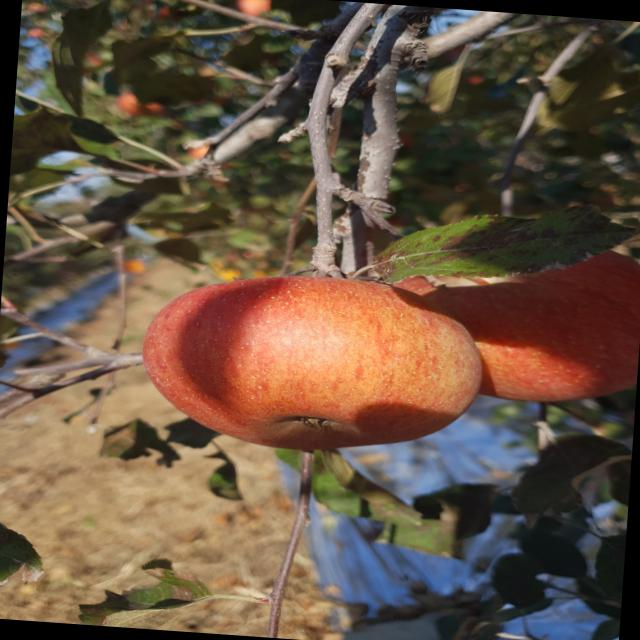fresh: (131, 261, 514, 467)
